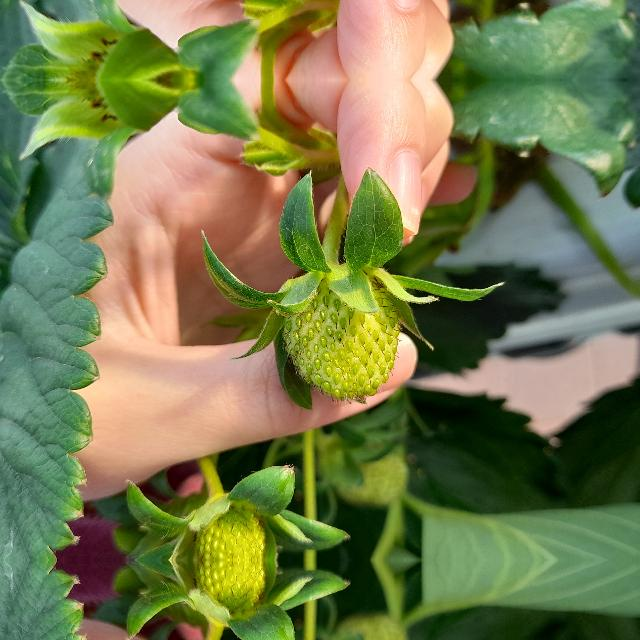Health_25: (282, 274, 401, 400)
